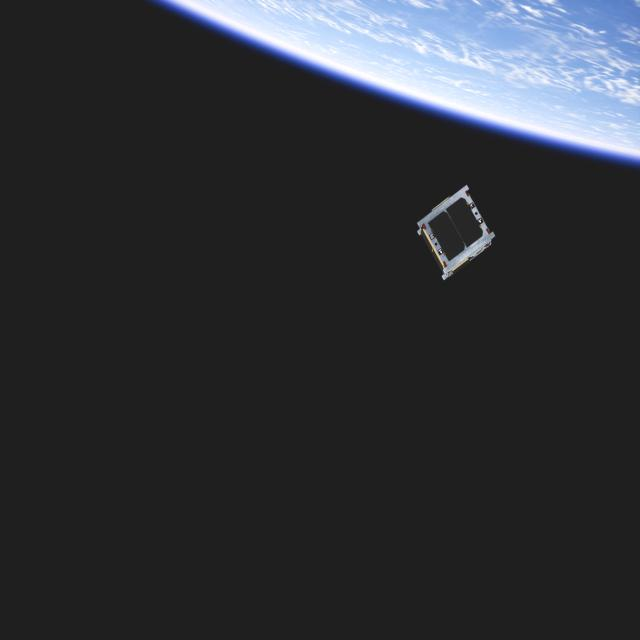satellite: (412, 182, 501, 284)
